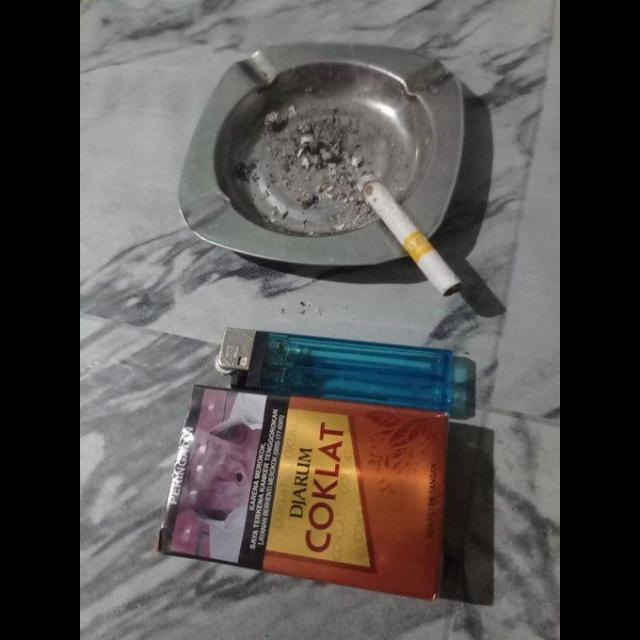rokok: (352, 171, 462, 297)
